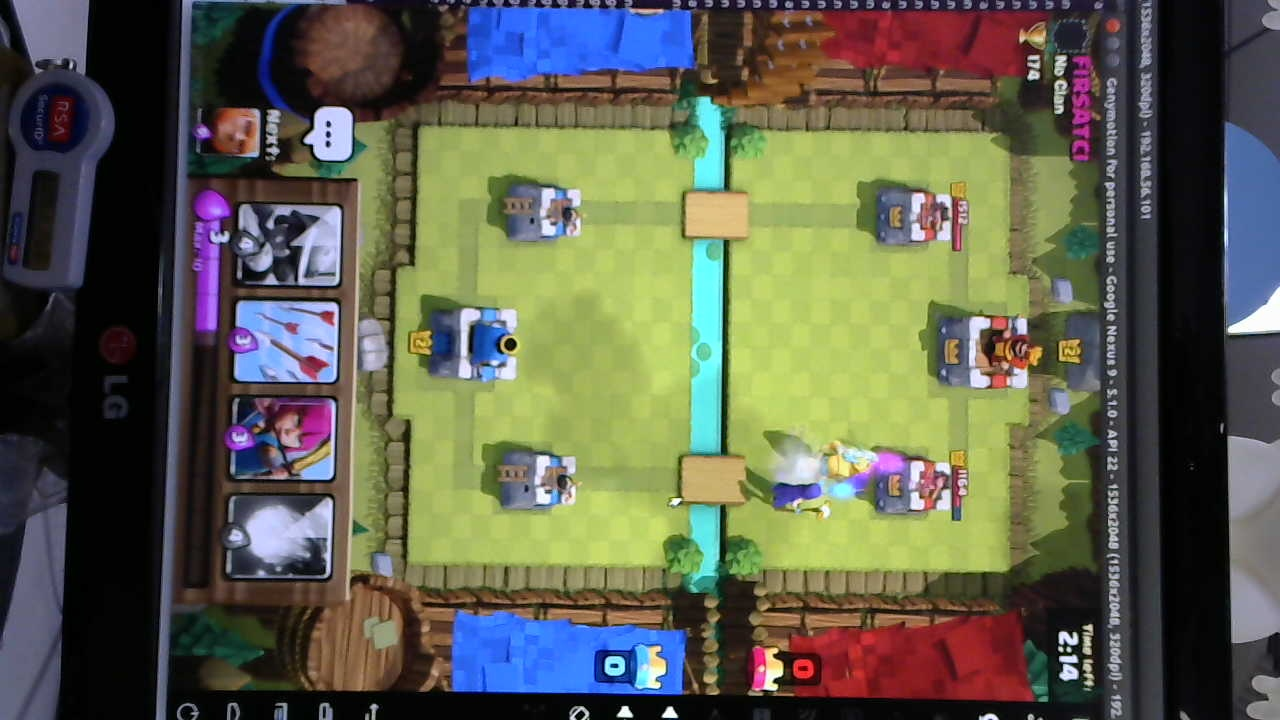arena: (494, 446, 581, 514), (502, 181, 585, 246)
earena: (876, 456, 955, 521), (869, 189, 954, 247)
eking: (930, 310, 1039, 391)
king: (432, 303, 524, 383)
prince: (817, 444, 880, 485)
witch: (766, 476, 838, 523)
